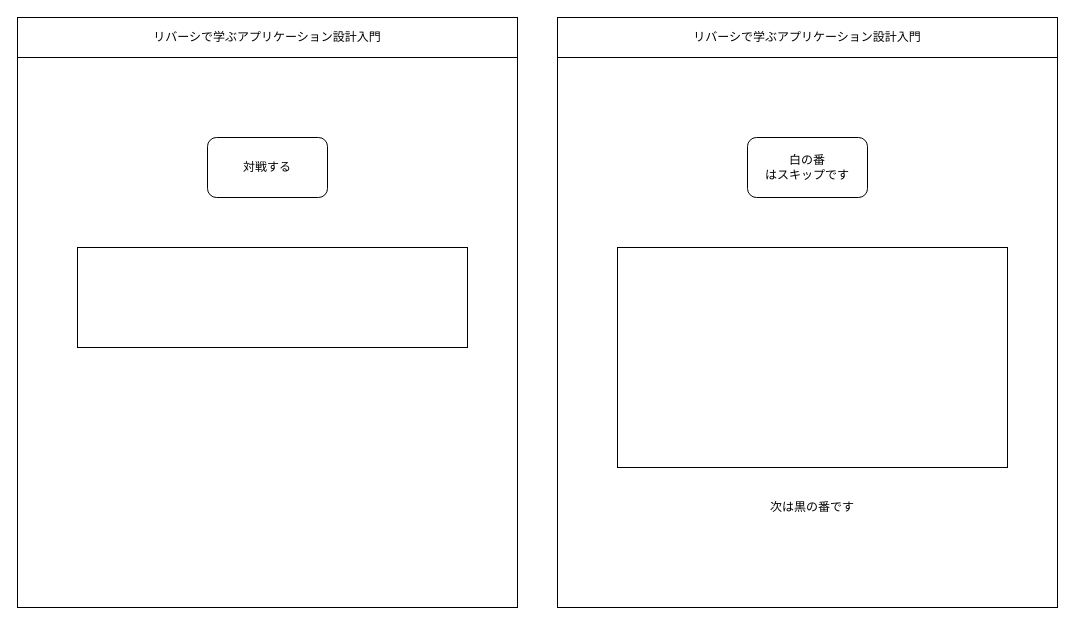
Some shapes in this 1075 by 625 pixel diagram are drawn without their labels. The shapes that lost their labels are listed below. From the top down, each one's centre as x and y in pixels, then its label:
(272,297): 過去の対戦結果
(812,357): 盤面
